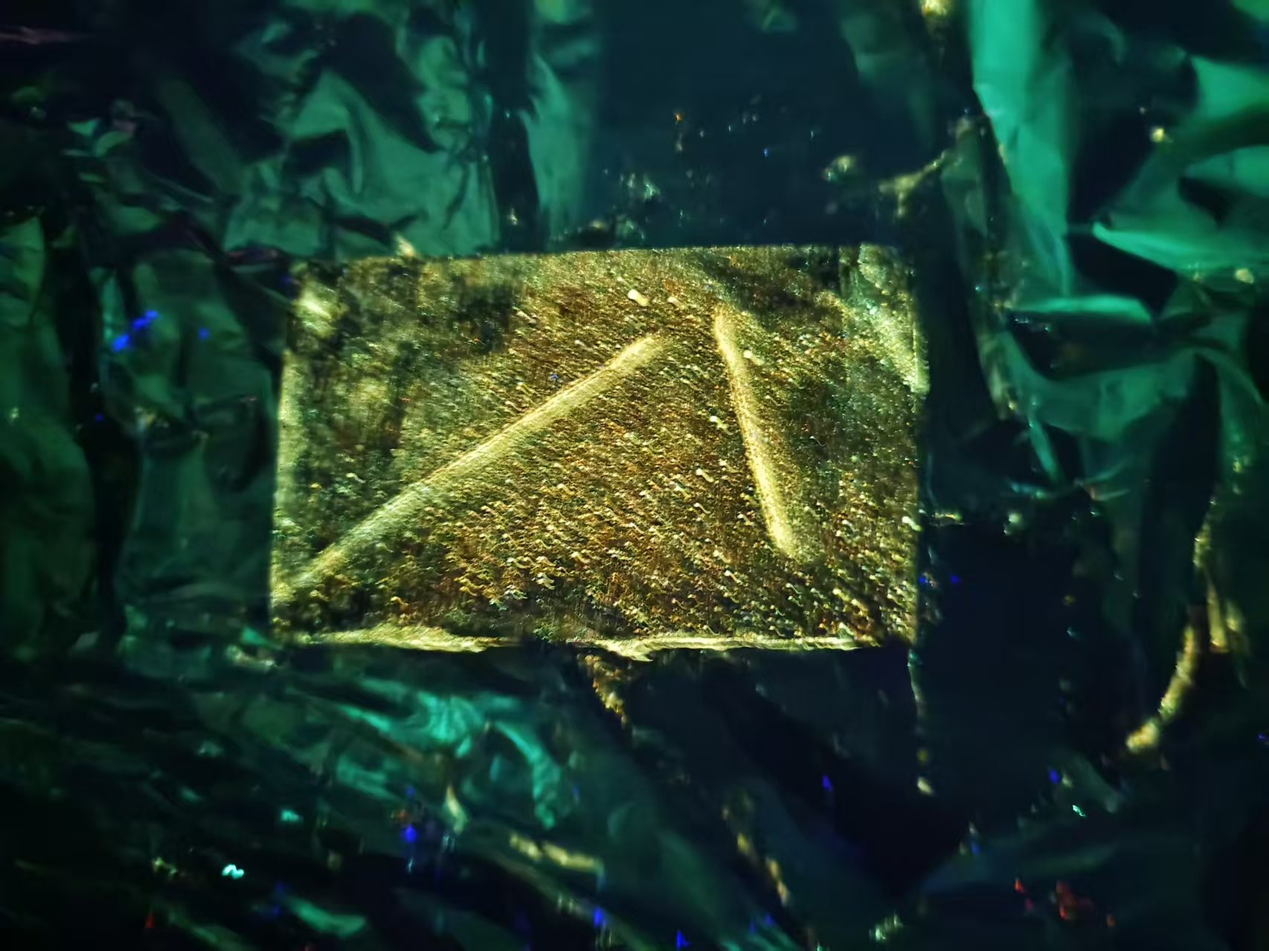Fissure: (270, 327, 655, 607), (694, 305, 812, 563)
